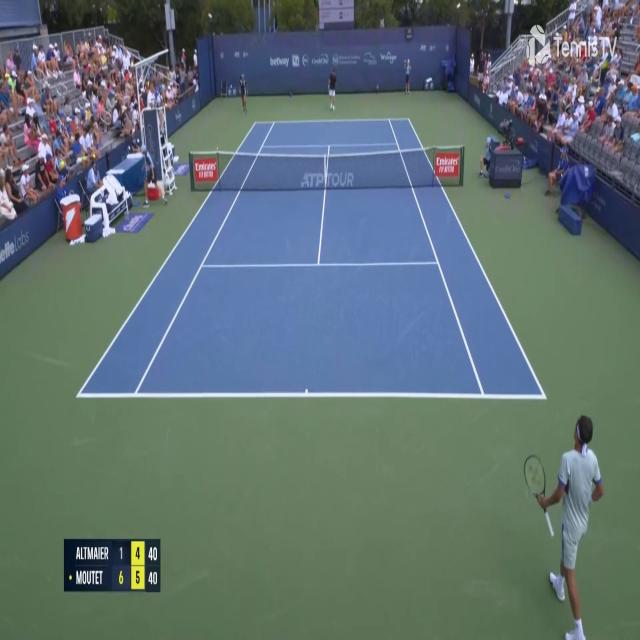tennis-player: (528, 410, 607, 637), (326, 63, 338, 112)
